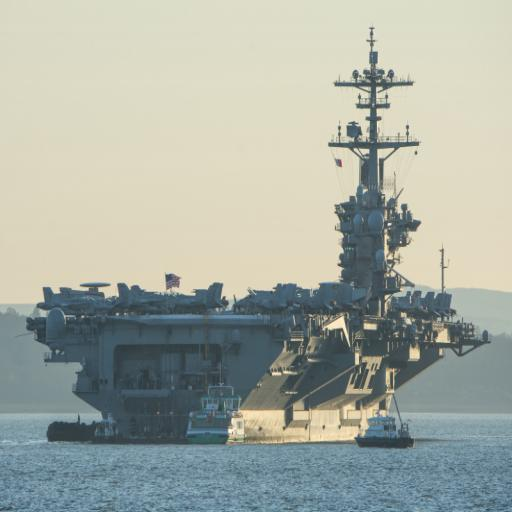Portanaves: (22, 30, 496, 449)
